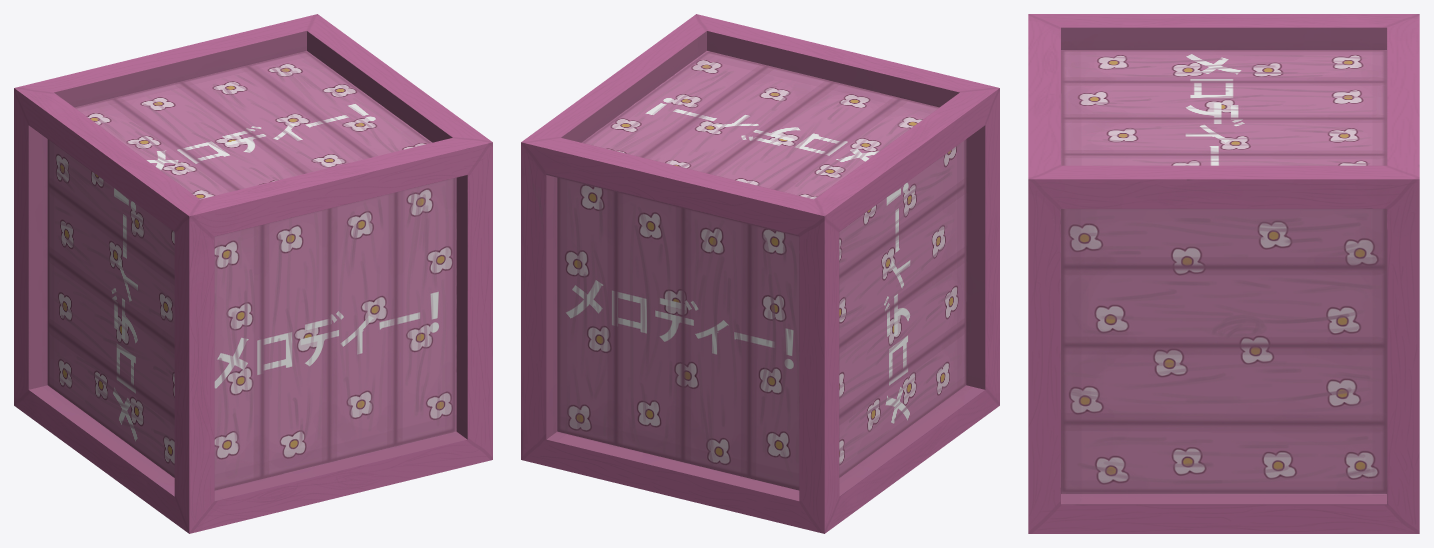
3 views of the same model, side by side, from view 1: azimuth 30°, elevation 25°; view 2: azimuth 150°, elevation 25°; view 3: azimuth 270°, elevation 25° (orthographic). The views are drawn at different scales.
Visible parts, largest first — view 1: cube2; view 2: cube2; view 3: cube2.
Part boxes in pixels (x1,y1,x2,y2): cube2: [14, 14, 492, 533]; cube2: [521, 14, 999, 533]; cube2: [1028, 14, 1419, 533].
Bounding box in the file's own units: 1 × 1 × 1.
Materials: 1 (1 with a texture image).
